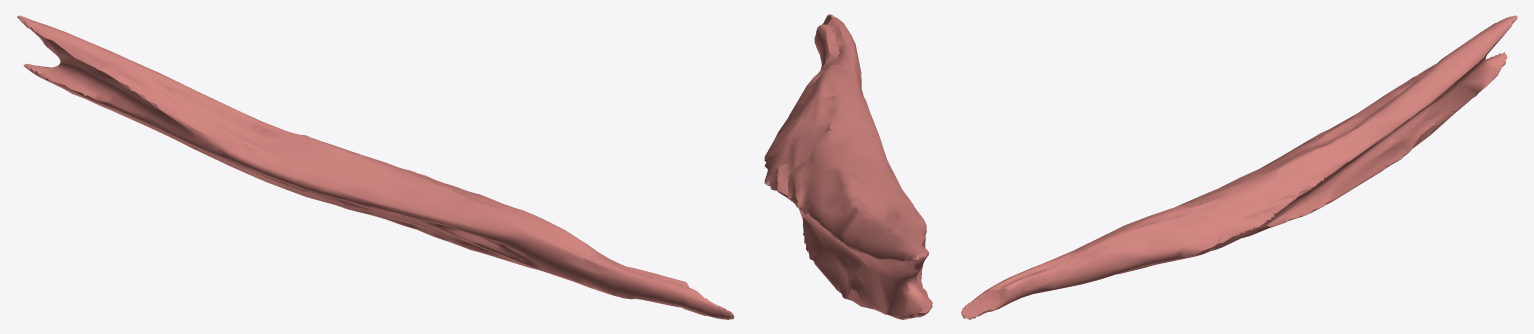
File: fma37484.glb
3 views of the same model, side by side, from view 1: azimuth 30°, elevation 25°; view 2: azimuth 150°, elevation 25°; view 3: azimuth 270°, elevation 25° (orthographic). The views are drawn at different scales.
Visible parts, largest first — view 1: FMA37484; view 2: FMA37484; view 3: FMA37484.
Boxes of the visible parts, bbox=[...] form: FMA37484: bbox=[17, 15, 734, 319]; FMA37484: bbox=[764, 14, 932, 319]; FMA37484: bbox=[961, 15, 1517, 319].
Size of the model in its own units: 0.035 by 0.0141 by 0.0501.
